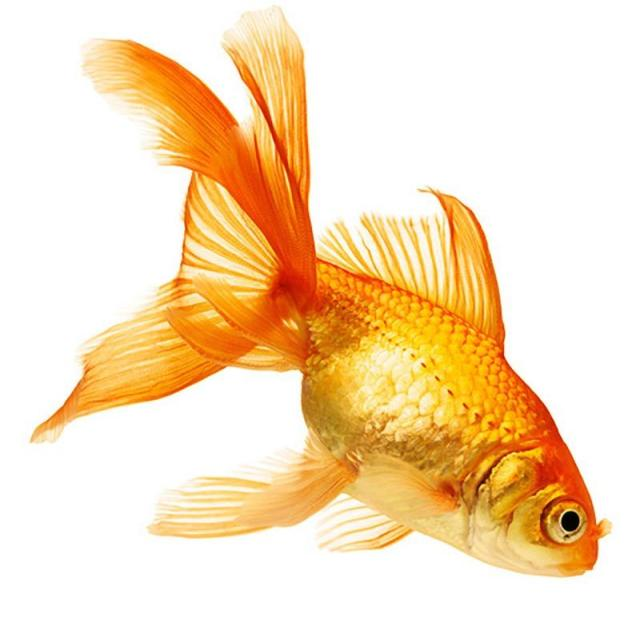GoldFish: (36, 5, 609, 588)
